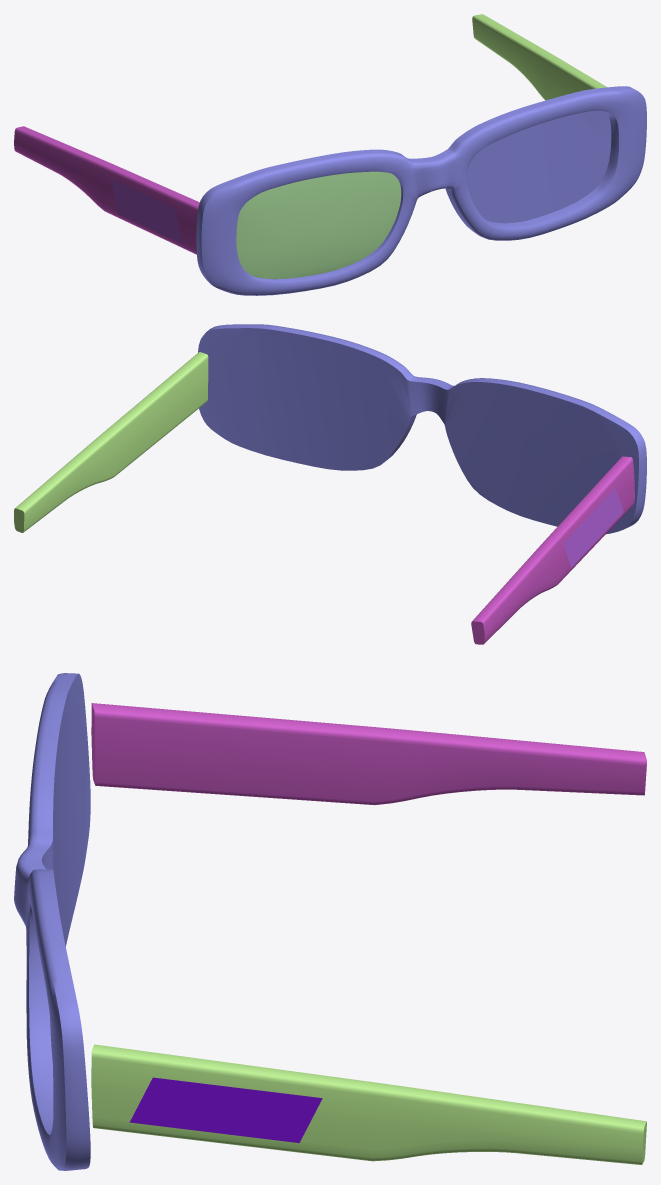
3 views of the same model, one above another, from view 1: azimuth 30°, elevation 25°; view 2: azimuth 150°, elevation 25°; view 3: azimuth 270°, elevation 25° (orthographic). The views are drawn at different scales.
Parts seen in each view (by area): view 1: Object_4, split_parent_6, Object_10, Object_6, Object_12; view 2: Object_4, Object_6, Object_10, Object_12; view 3: Object_10, Object_6, Object_4, Object_8.
Boxes of the visible parts, x1,y1,x2,y2 form: Object_4: (196,86,646,295); split_parent_6: (236,171,401,279); Object_10: (14,126,199,254); Object_6: (472,14,606,100); Object_12: (111,179,182,243); Object_4: (198,324,646,534); Object_6: (14,352,208,532); Object_10: (471,456,634,644); Object_12: (563,488,623,567); Object_10: (91,703,646,805); Object_6: (91,1044,646,1164); Object_4: (14,673,90,1170); Object_8: (129,1077,322,1142).
Size of the model in its own units: 1 by 0.2585 by 0.7047.
